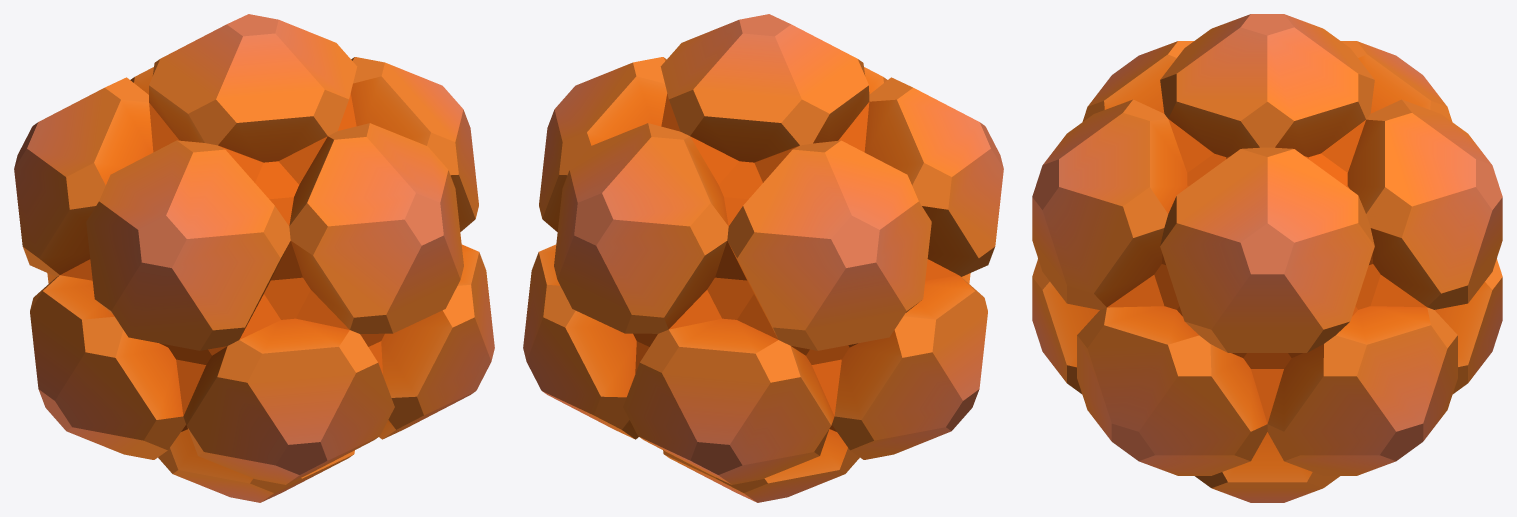
Rendered from Artifact_04.fbx.
3 renders of one model, left to right at view 1: azimuth 30°, elevation 25°; view 2: azimuth 150°, elevation 25°; view 3: azimuth 270°, elevation 25°, orthographic.
Parts seen in each view (by area): view 1: Artifact_04; view 2: Artifact_04; view 3: Artifact_04.
Boxes of the visible parts, left/top/right/bottom form: Artifact_04: left=14, top=14, right=494, bottom=502; Artifact_04: left=523, top=14, right=1003, bottom=502; Artifact_04: left=1032, top=14, right=1502, bottom=502.
Size of the model in its own units: 119 by 116 by 128.
